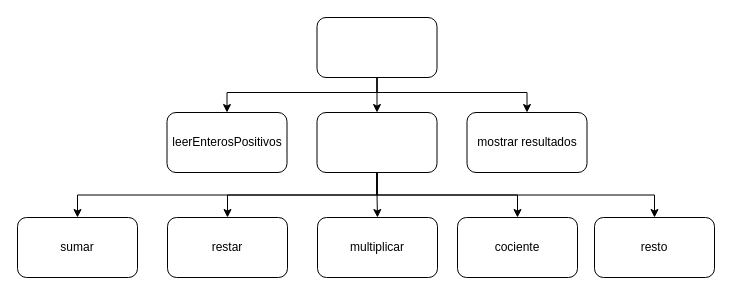
Image size: 732x295. Some labels were removed from this diagram. The shapes that lost their labels are listed below. From the top down, each one's centre as x and y in pixels, then its label:
At point 376,47: "main".
At point 376,142: "menu".
